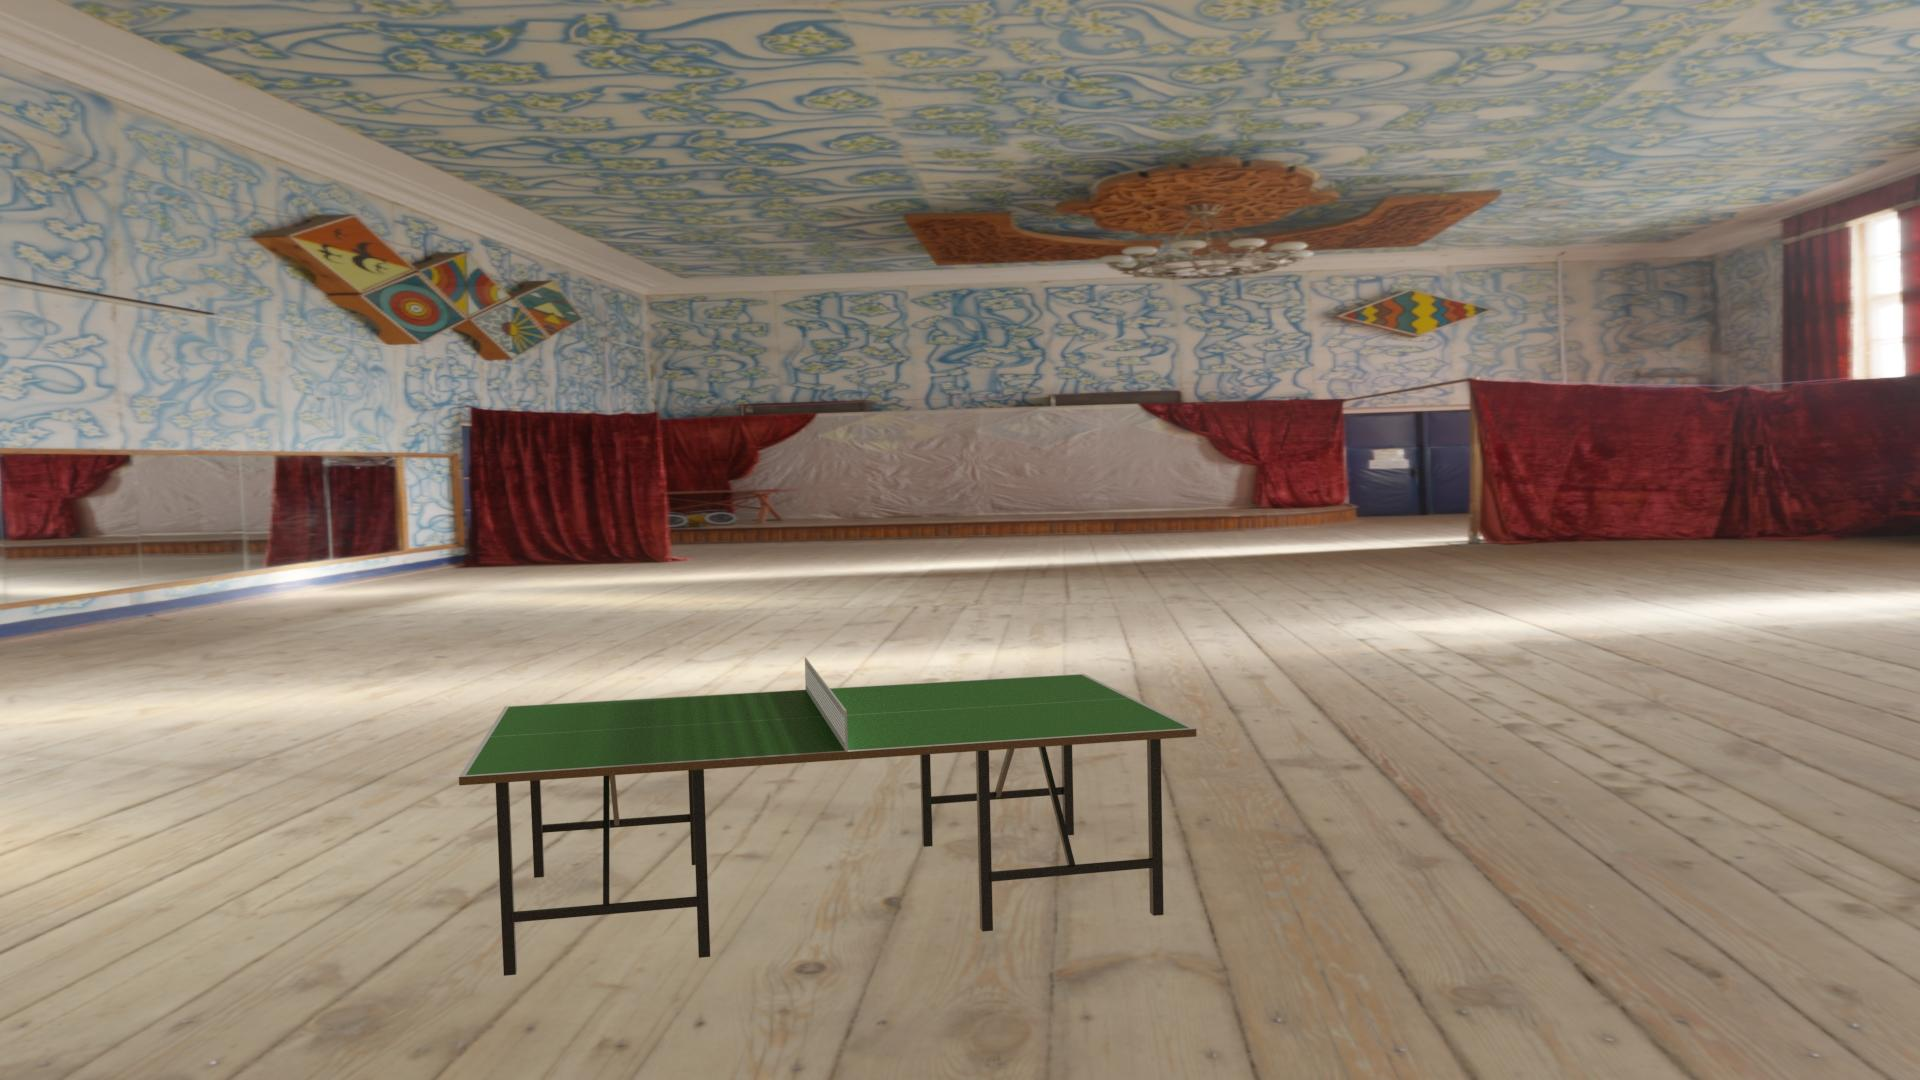table: (465, 675, 1189, 775)
